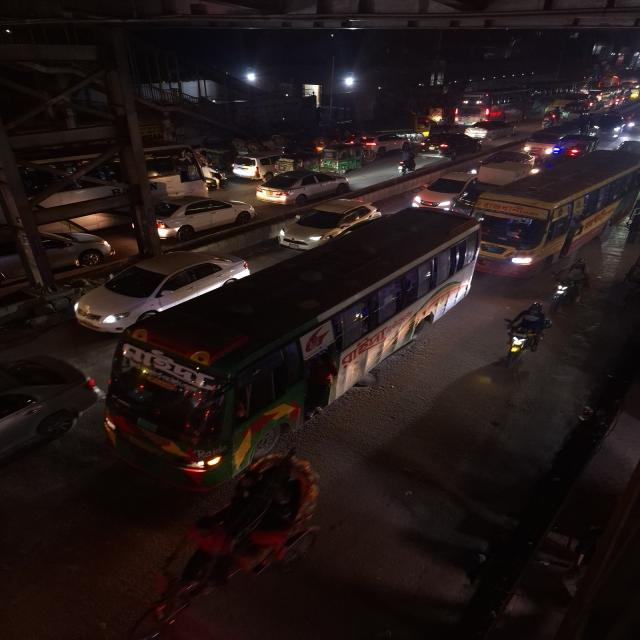bus: (103, 207, 482, 483), (472, 148, 639, 272), (487, 179, 615, 258), (483, 90, 533, 120)
car: (74, 249, 253, 331), (0, 351, 97, 470), (277, 198, 382, 250), (147, 195, 256, 240), (254, 169, 354, 204), (410, 171, 476, 209), (424, 133, 479, 159), (523, 126, 569, 156), (468, 119, 517, 141), (593, 112, 629, 140)
cng: (318, 145, 366, 174), (558, 134, 599, 160)
motorcycle: (500, 299, 554, 365), (549, 259, 592, 307), (393, 149, 418, 175), (539, 116, 554, 127)
